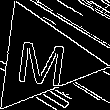M_N: (14, 31, 70, 87)
